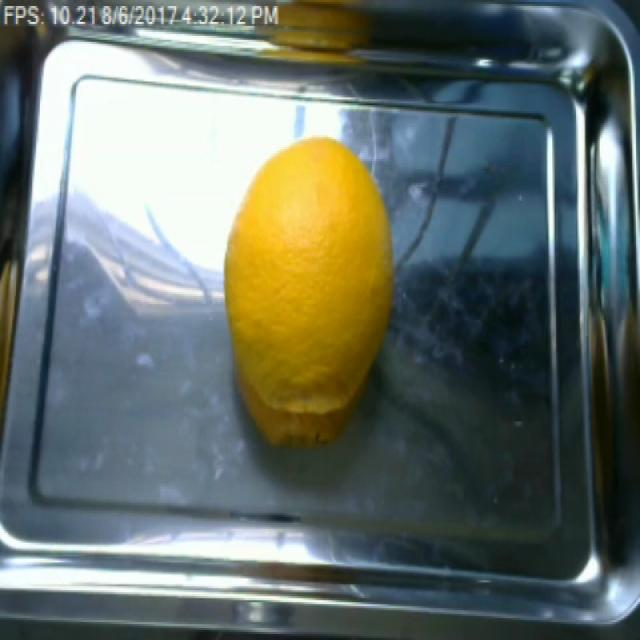Fruit: (223, 125, 396, 459)
